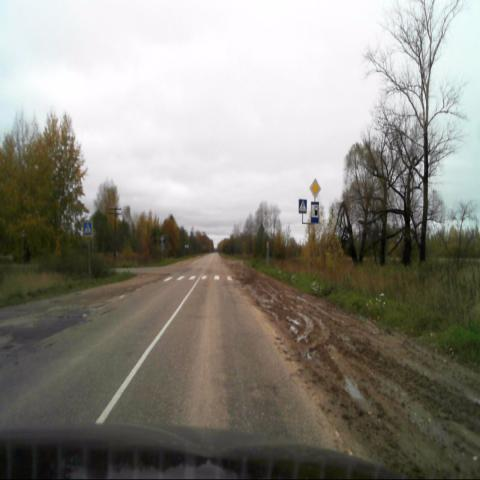2_1: (310, 178, 320, 198)
5_19_1: (84, 221, 92, 236), (299, 198, 306, 212)
7_3: (311, 202, 319, 223)
